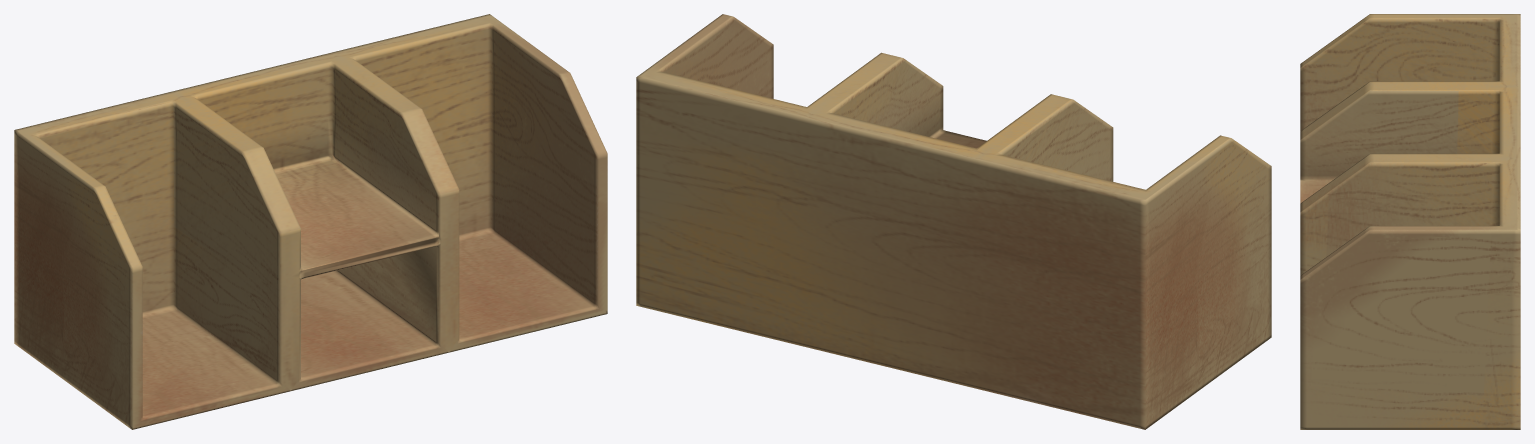
File: BookShelf_V1.fbx
3 views of the same model, side by side, from view 1: azimuth 30°, elevation 25°; view 2: azimuth 150°, elevation 25°; view 3: azimuth 270°, elevation 25° (orthographic). The views are drawn at different scales.
Visible parts, largest first — view 1: Bookshelf; view 2: Bookshelf; view 3: Bookshelf.
Boxes of the visible parts, bbox=[...] form: Bookshelf: bbox=[14, 14, 607, 429]; Bookshelf: bbox=[636, 14, 1271, 429]; Bookshelf: bbox=[1300, 14, 1520, 429].
Bounding box in the file's own units: 597 × 256 × 256.
